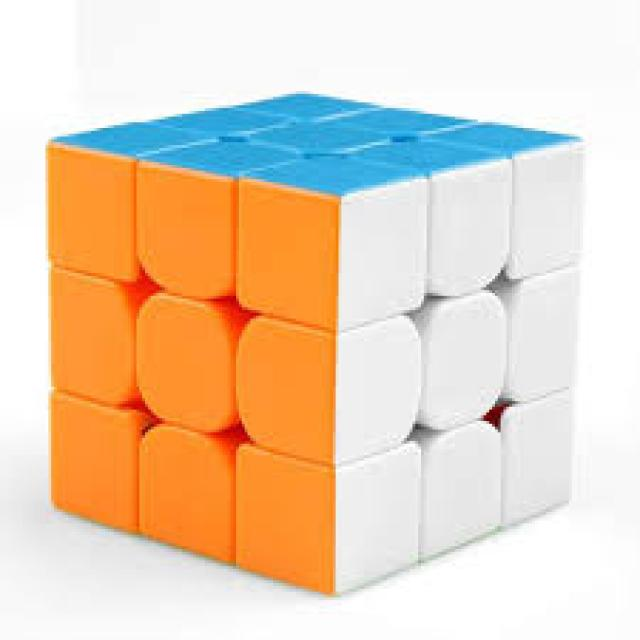Cube-3x3: (32, 124, 589, 540)
